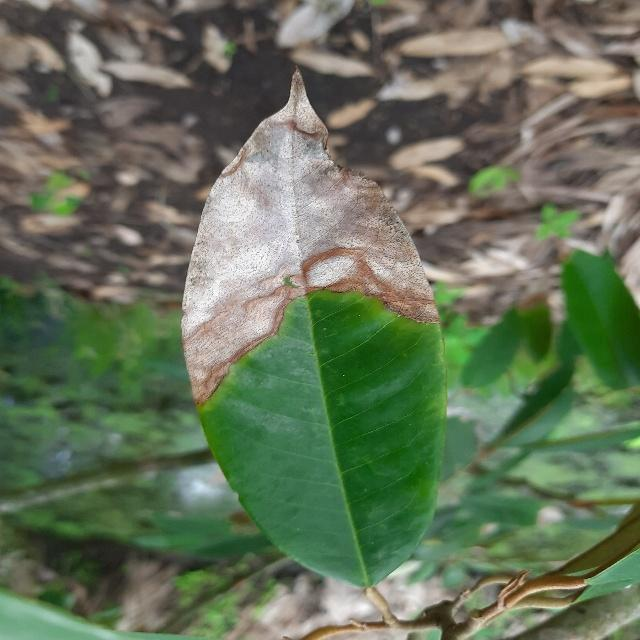Leaf Blight: (172, 57, 455, 599)
